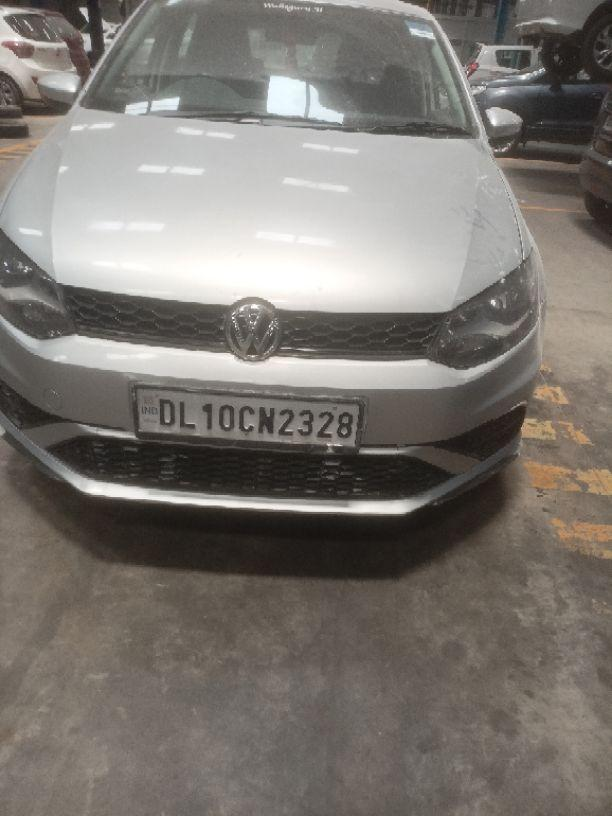license_plate: (130, 382, 366, 455)
